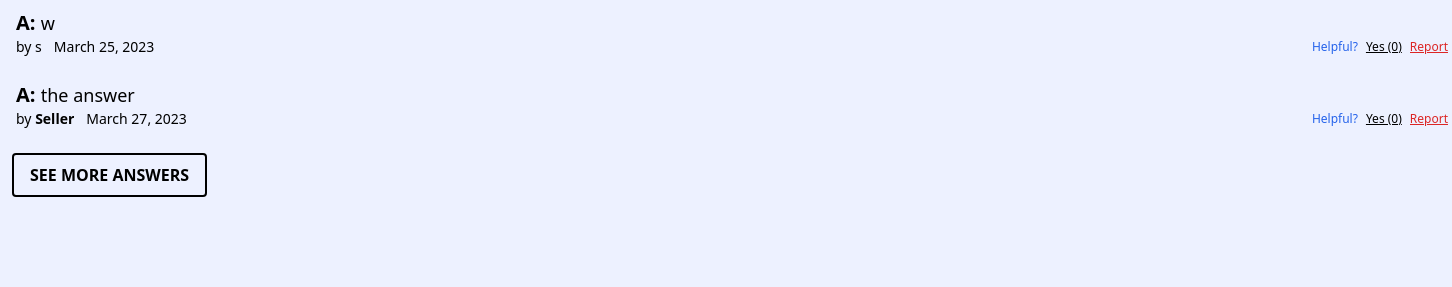
Test: should increment helpful
Click the button with test id "more-answers-btn".
click(110, 175)  # box [12,153,207,197]
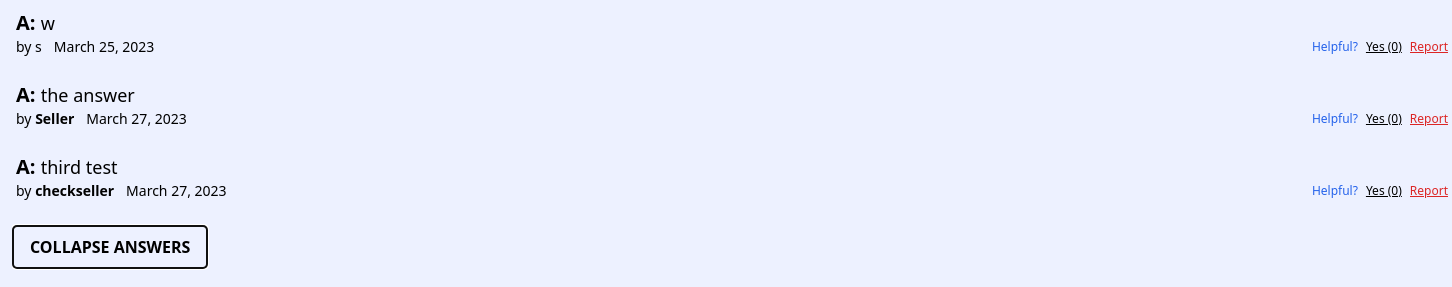
Now the element with test id "answers-list" shows "third test", box [41,155,118,179]
